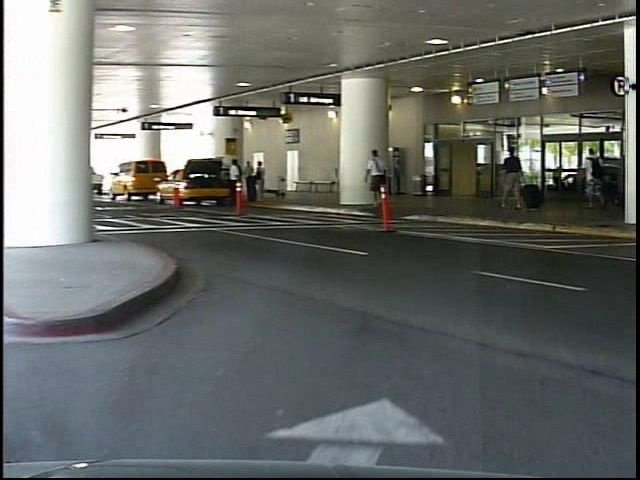person: (576, 139, 613, 224), (503, 143, 531, 211), (370, 146, 397, 213)
